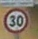limite 30: (2, 6, 29, 33)
